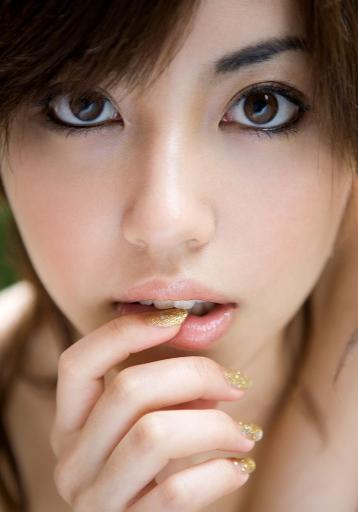left_eye: (217, 87, 311, 141)
left_lip_corner: (224, 293, 246, 319)
right_eye: (37, 88, 125, 138)
right_lip_corner: (106, 289, 129, 314)
